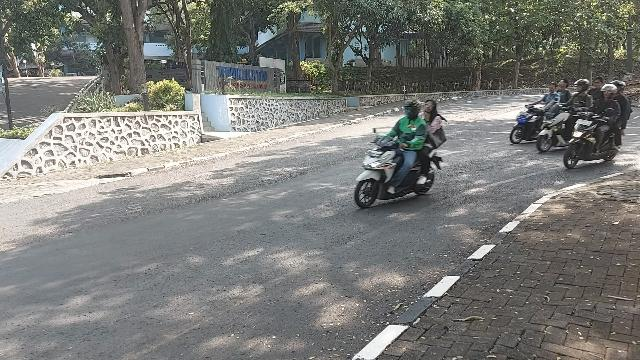helm: (405, 99, 422, 118), (602, 85, 619, 99), (574, 80, 590, 93), (611, 82, 626, 95)
motor: (356, 129, 443, 209), (565, 105, 621, 170), (538, 103, 571, 154), (511, 100, 540, 145)
non-helm: (426, 101, 437, 114), (595, 77, 604, 89), (561, 80, 570, 89), (551, 84, 558, 93)
